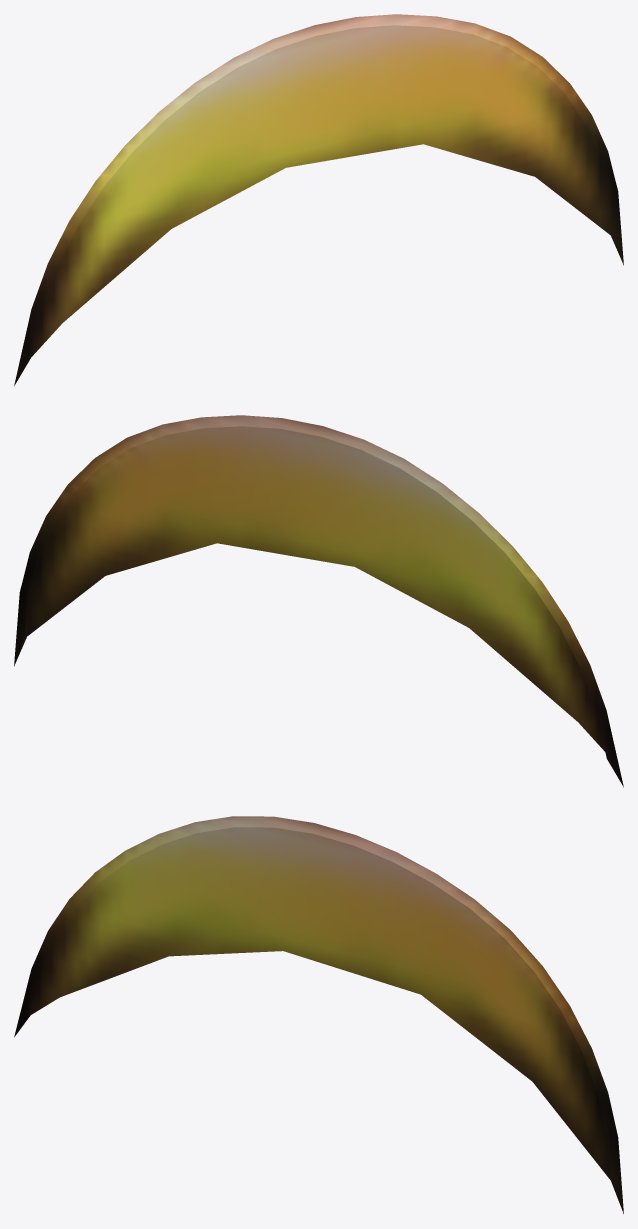
The model's file is blade_edge_1.FBX.
3 renders of one model, top to bottom at view 1: azimuth 30°, elevation 25°; view 2: azimuth 150°, elevation 25°; view 3: azimuth 330°, elevation 25°, orthographic.
Parts seen in each view (by area): view 1: particle_2008_edge_1; view 2: particle_2008_edge_1; view 3: particle_2008_edge_1.
Boxes of the visible parts, bbox=[...] form: particle_2008_edge_1: bbox=[14, 14, 623, 386]; particle_2008_edge_1: bbox=[14, 415, 623, 787]; particle_2008_edge_1: bbox=[14, 816, 623, 1213].
Bounding box in the file's own units: 131 × 64.82 × 1.
Materials: 1 (1 with a texture image).
